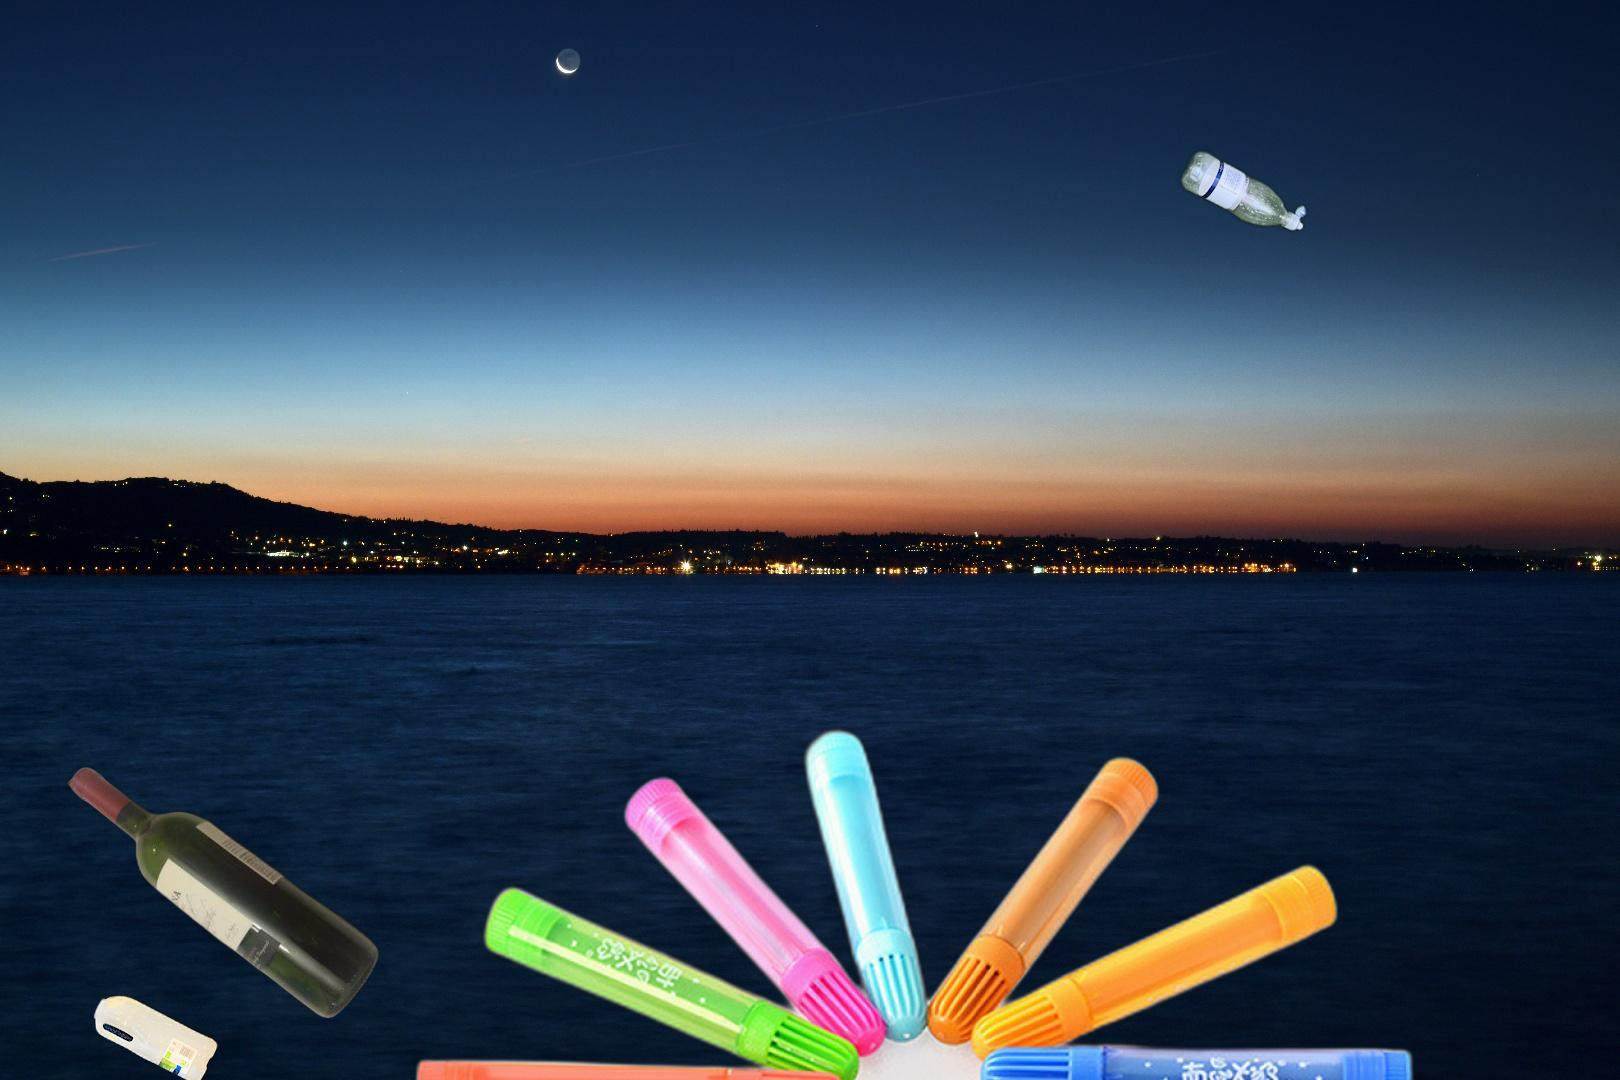glass: (64, 765, 383, 1022)
penholder: (406, 721, 1422, 1080)
plastic-bottles: (852, 145, 1311, 432), (90, 990, 222, 1080)
